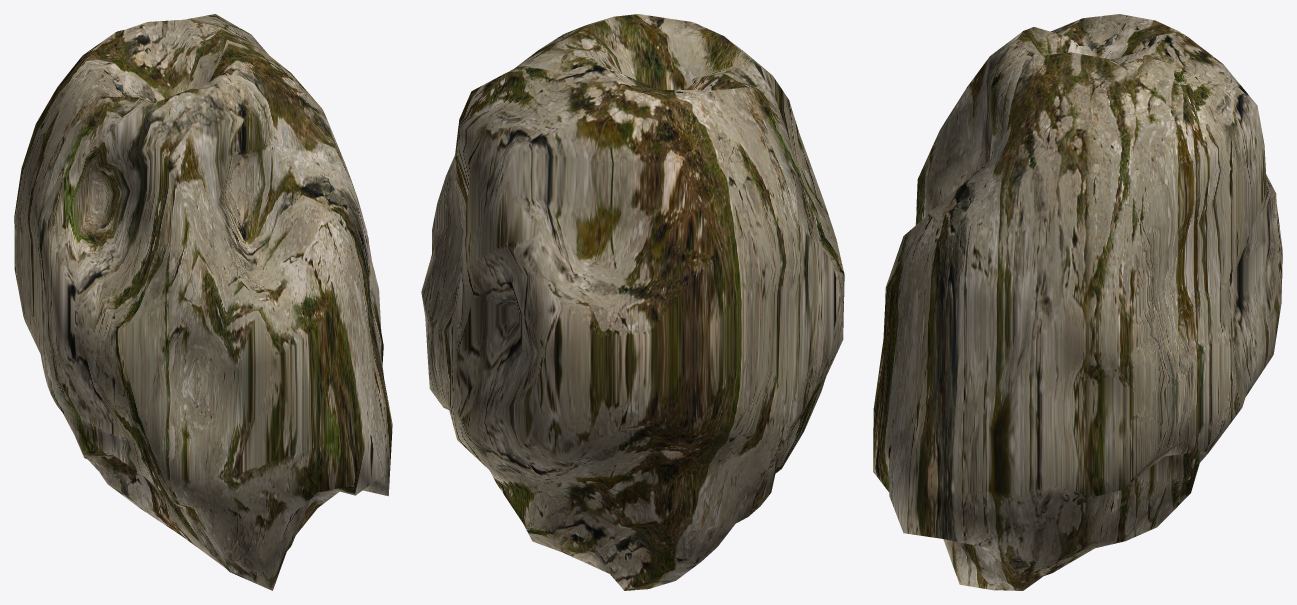
Rendered from colObj02.FBX.
3 views of the same model, side by side, from view 1: azimuth 30°, elevation 25°; view 2: azimuth 150°, elevation 25°; view 3: azimuth 270°, elevation 25° (orthographic). The views are drawn at different scales.
Parts seen in each view (by area): view 1: colObj02; view 2: colObj02; view 3: colObj02.
Boxes of the visible parts, bbox=[...] form: colObj02: bbox=[14, 14, 392, 590]; colObj02: bbox=[421, 14, 844, 590]; colObj02: bbox=[873, 14, 1282, 590].
Bounding box in the file's own units: 39.11 × 41.92 × 60.72.
1 material, 1 textured.
